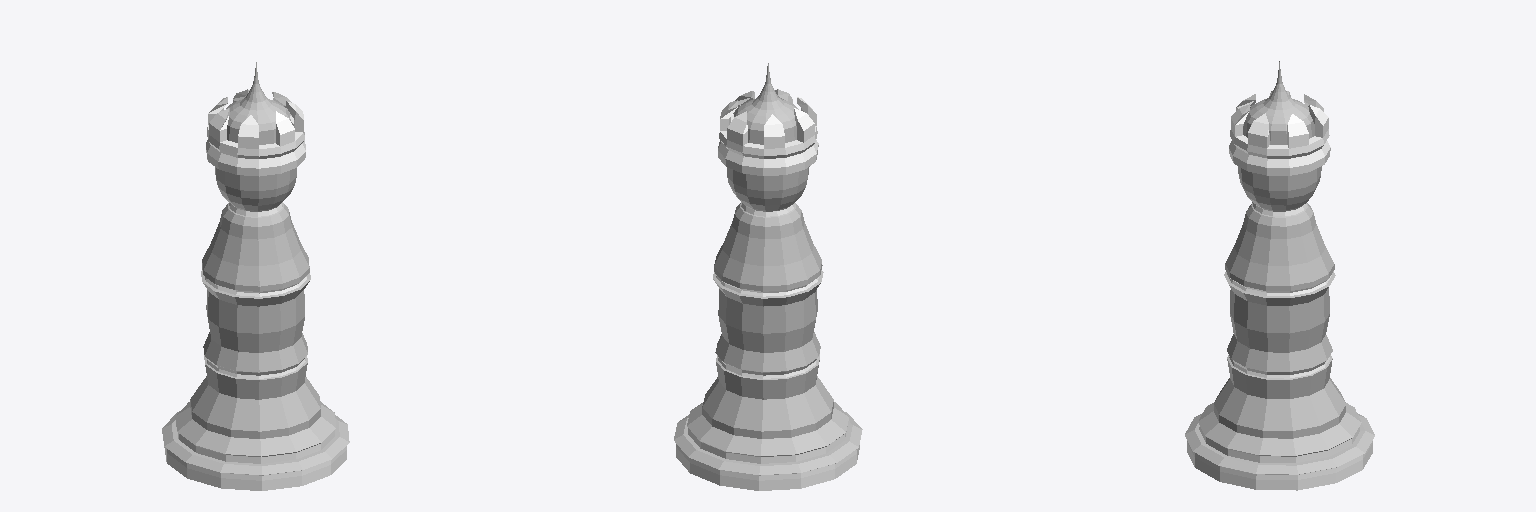
The model's file is krol.obj.
The picture shows the model from 3 angles: view 1: azimuth 30°, elevation 25°; view 2: azimuth 150°, elevation 25°; view 3: azimuth 270°, elevation 25°; orthographic projection.
Visible parts, largest first — view 1: biały_król; view 2: biały_król; view 3: biały_król.
Part boxes in pixels (bbox=[...]): biały_król: bbox=[162, 62, 349, 490]; biały_król: bbox=[674, 63, 862, 490]; biały_król: bbox=[1185, 61, 1374, 490].
Size of the model in its own units: 1.84 by 4.27 by 1.88.